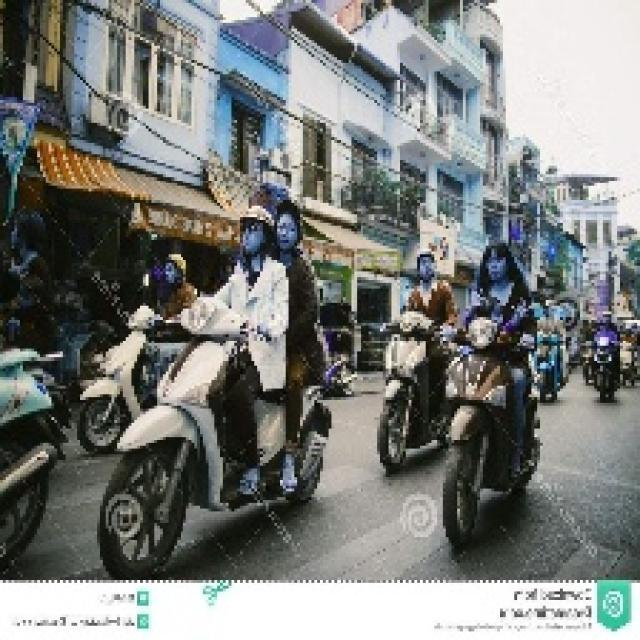bike: (104, 315, 258, 556), (448, 322, 532, 536), (74, 298, 175, 439), (382, 302, 444, 476)
